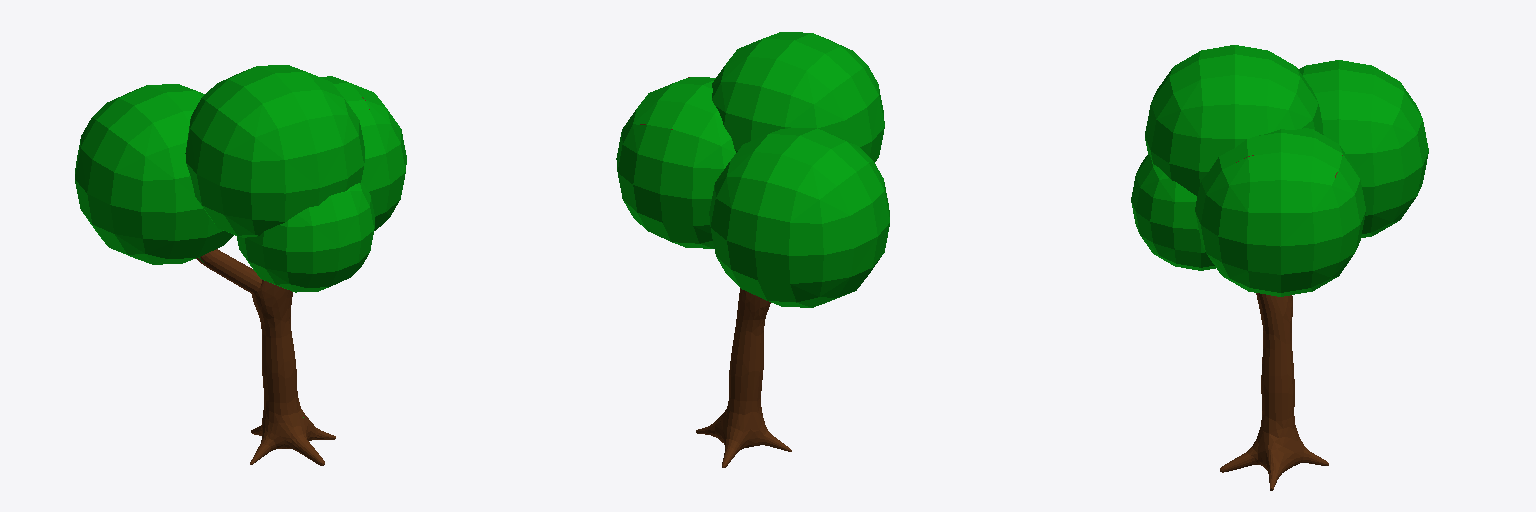
3 renders of one model, left to right at view 1: azimuth 30°, elevation 25°; view 2: azimuth 150°, elevation 25°; view 3: azimuth 270°, elevation 25°, orthographic.
Visible parts, largest first — view 1: Cube.036; view 2: Cube.036; view 3: Cube.036.
Boxes of the visible parts, box(x1,y1,x2,y2) form: Cube.036: box(75, 65, 406, 465); Cube.036: box(616, 32, 889, 467); Cube.036: box(1131, 45, 1428, 490).
Size of the model in its own units: 77.53 by 106 by 71.8.
Materials: 1 (1 with a texture image).